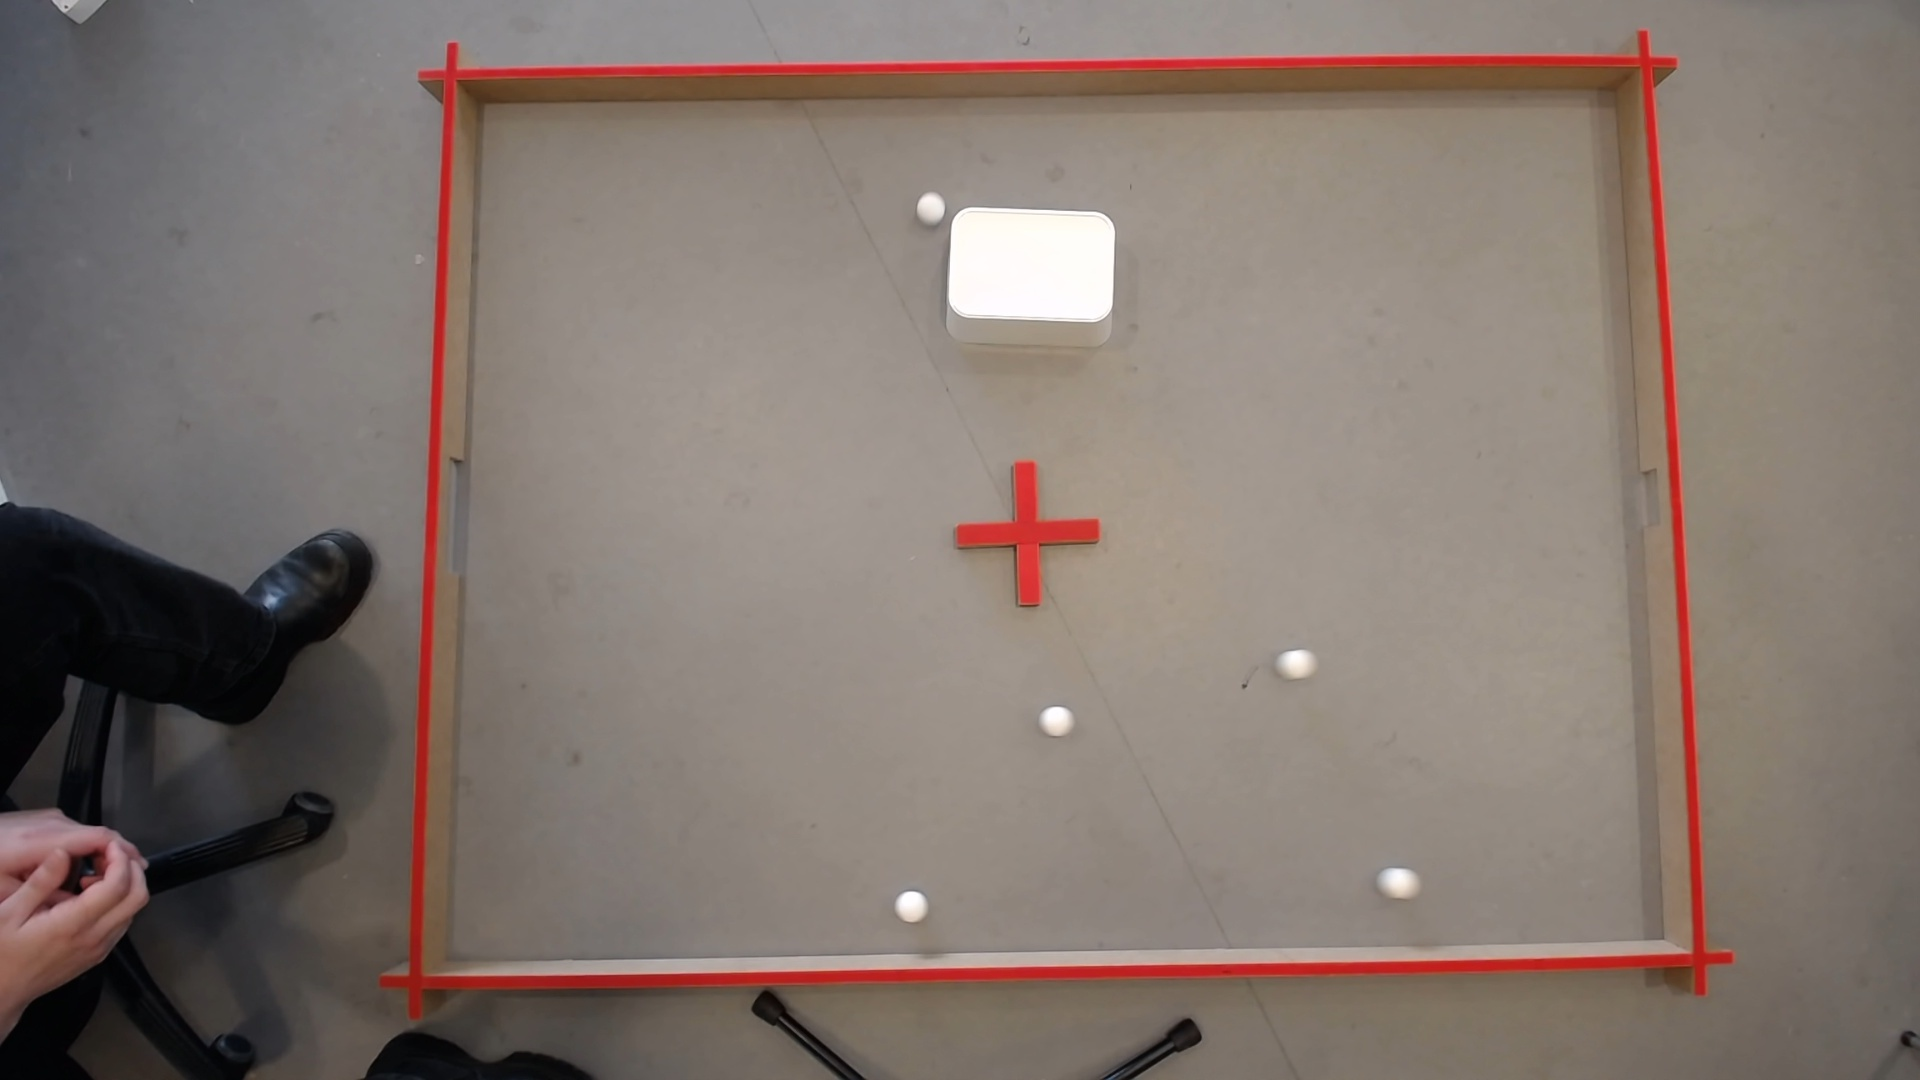balls: (945, 204, 1116, 323), (891, 885, 928, 922), (1381, 861, 1415, 897), (1279, 644, 1311, 675), (1043, 707, 1068, 731)
car: (915, 189, 948, 219)
